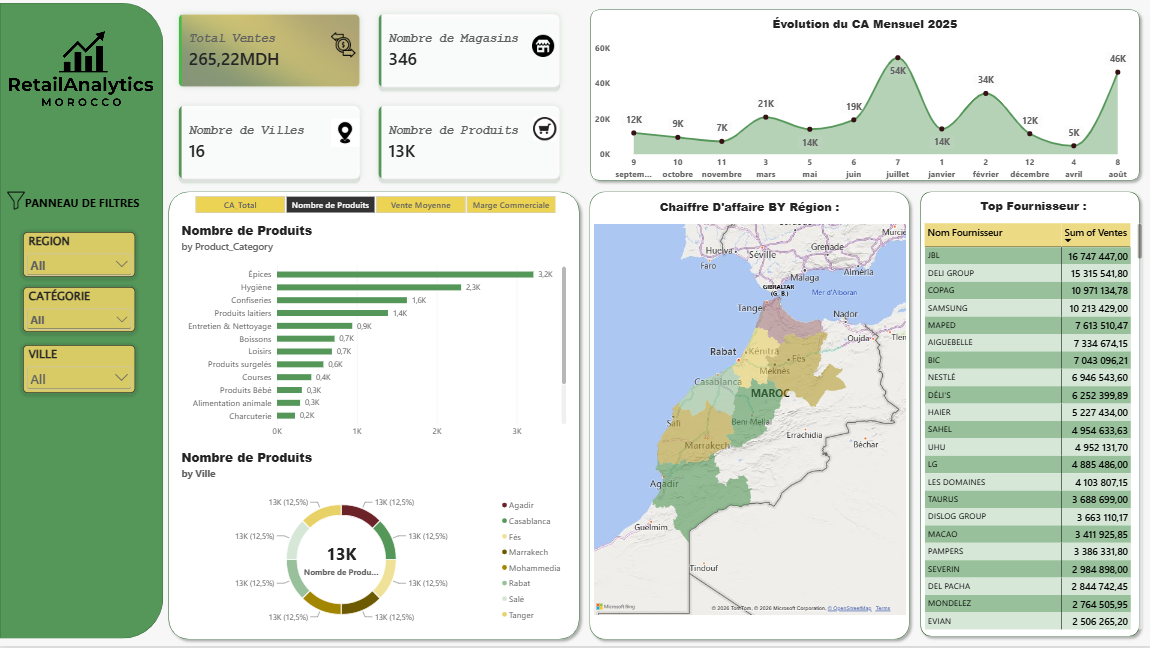

What the dashboard file says about the page in this screenshot:
{"tool":"powerbi","page":{"name":"Page 1","canvas":[1920,1080],"ordinal":0},"visuals":[{"type":"shape","box":[0,8.3,272,1059.3],"z":0},{"type":"image","box":[0,0,260,276.7],"z":1000},{"type":"cardVisual","fields":{"Data":["Transactions.CA_Total","Transactions.Nombre de Stores","Magasins.Nombre de Villes","Produits.Nombre de Produits"]},"box":[286.7,15,658.3,298.3],"z":2000},{"type":"image","box":[551.4,50,41.4,55.7],"z":3000},{"type":"image","box":[551.4,190,47.1,68.6],"z":4000},{"type":"image","box":[888.6,188.6,38.6,58.6],"z":5000},{"type":"image","box":[887.1,42.9,37.1,72.9],"z":6000},{"type":"shape","box":[271.7,313.3,703.3,765],"z":7000},{"type":"barChart","fields":{"Y":["Produits.Nombre de Produits"],"Category":["Categorie_Produits.Product_Category"]},"box":[286.7,358.3,673.3,395],"z":8000},{"type":"slicer","fields":{"Values":["matrix.matrix"]},"box":[305,328.3,640,30],"z":9000},{"type":"donutChart","fields":{"Y":["Produits.Nombre de Produits"],"Category":["Magasins.Ville"]},"box":[286.7,736.7,673.3,333.3],"z":10000},{"type":"shape","box":[975,10,933.3,303.3],"z":11000},{"type":"lineChart","title":"Évolution du CA Mensuel 2025","fields":{"Y":["Transactions.CA_Total"],"Category":["Dim_Date.NomMois","Dim_Date.NumMois"]},"box":[975,15,933.3,313.3],"z":12000},{"type":"slicer","title":"Région","fields":{"Values":["Magasins.Region"]},"box":[38.3,390,186.7,75],"z":13000},{"type":"slicer","fields":{"Values":["Magasins.Ville"]},"box":[38.3,578.3,186.7,80],"z":14000},{"type":"slicer","fields":{"Values":["Categorie_Produits.Product_Category"]},"box":[38.3,481.7,186.7,75],"z":15000},{"type":"image","box":[11.7,296.7,30,81.7],"z":16000},{"type":"textbox","box":[41.7,328.3,236.7,81.7],"z":17000},{"type":"shape","box":[973.3,313.3,551.7,765],"z":18000},{"type":"filledMap","title":"Chaiffre D''affaire BY Région :","fields":{"Category":["Magasins.Region"]},"box":[973.3,320,551.7,725],"z":19000},{"type":"shape","box":[1525,313.3,383.3,760],"z":20000},{"type":"pivotTable","title":"Top Fournisseur :","fields":{"Rows":["Fournisseur.Fournisseur_Nom"],"Values":["Sum(Transactions.Ventes)"]},"box":[1525,318.3,395,750],"z":21000}]}

Visuals, with their boxes in screenshot pixels (x1, y1, x2, y2), scaled from the page's 1920x1080 canvas onto the 1150x648 screenshot:
shape: x1=0, y1=5, x2=163, y2=641
image: x1=0, y1=0, x2=156, y2=166
cardVisual - Transactions.CA_Total x Transactions.Nombre de Stores: x1=172, y1=9, x2=566, y2=188
image: x1=330, y1=30, x2=355, y2=63
image: x1=330, y1=114, x2=358, y2=155
image: x1=532, y1=113, x2=555, y2=148
image: x1=531, y1=26, x2=554, y2=69
shape: x1=163, y1=188, x2=584, y2=647
barChart - Produits.Nombre de Produits x Categorie_Produits.Product_Category: x1=172, y1=215, x2=575, y2=452
slicer - matrix.matrix: x1=183, y1=197, x2=566, y2=215
donutChart - Produits.Nombre de Produits x Magasins.Ville: x1=172, y1=442, x2=575, y2=642
shape: x1=584, y1=6, x2=1143, y2=188
"Évolution du CA Mensuel 2025" lineChart: x1=584, y1=9, x2=1143, y2=197
"Région" slicer: x1=23, y1=234, x2=135, y2=279
slicer - Magasins.Ville: x1=23, y1=347, x2=135, y2=395
slicer - Categorie_Produits.Product_Category: x1=23, y1=289, x2=135, y2=334
image: x1=7, y1=178, x2=25, y2=227
textbox: x1=25, y1=197, x2=167, y2=246
shape: x1=583, y1=188, x2=913, y2=647
"Chaiffre D''affaire BY Région :" filledMap: x1=583, y1=192, x2=913, y2=627
shape: x1=913, y1=188, x2=1143, y2=644
"Top Fournisseur :" pivotTable: x1=913, y1=191, x2=1149, y2=641
